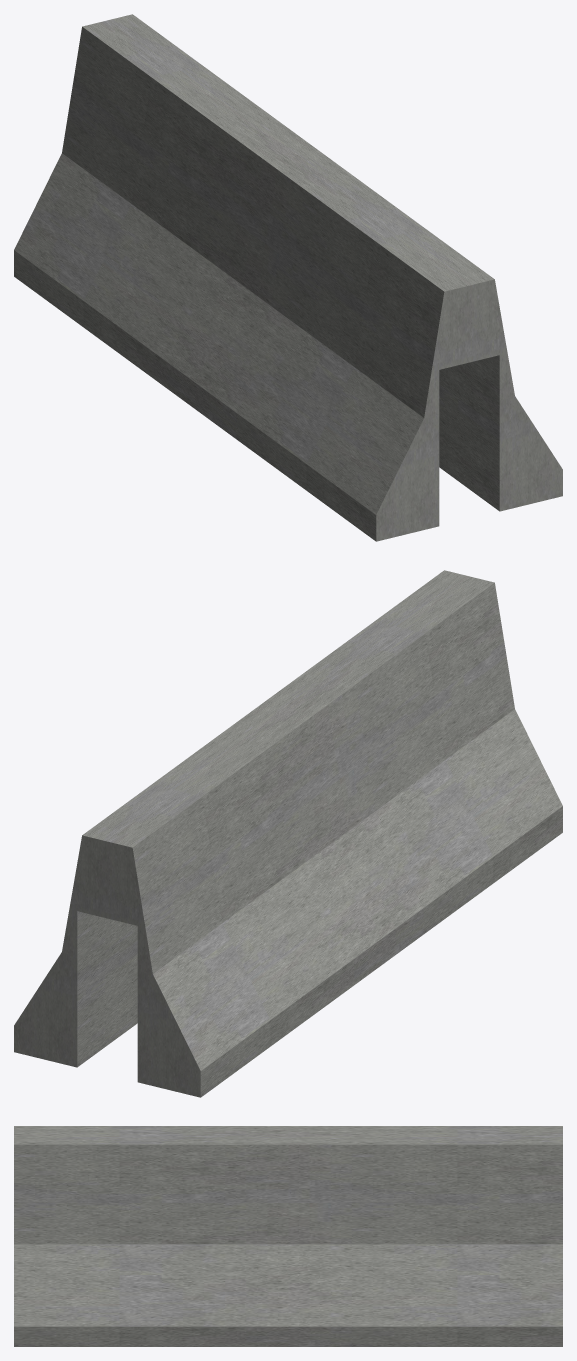
The model's file is road_block.FBX.
3 views of the same model, one above another, from view 1: azimuth 30°, elevation 25°; view 2: azimuth 150°, elevation 25°; view 3: azimuth 270°, elevation 25° (orthographic). The views are drawn at different scales.
Visible parts, largest first — view 1: Box002; view 2: Box002; view 3: Box002.
Part boxes in pixels (bbox=[...]): Box002: bbox=[14, 14, 562, 541]; Box002: bbox=[14, 570, 562, 1097]; Box002: bbox=[14, 1126, 562, 1346].
Bounding box in the file's own units: 3.37 × 11.31 × 4.02.
